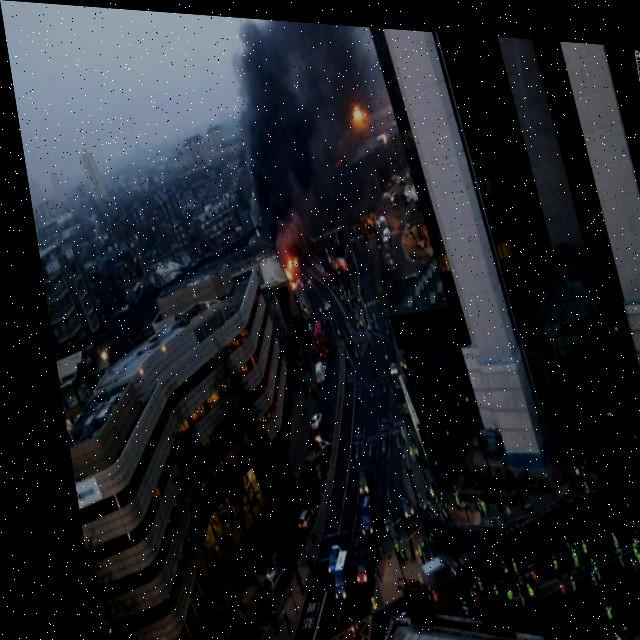Fire: (340, 92, 372, 131), (270, 246, 298, 290)
